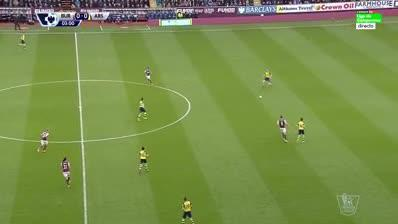futbol: (258, 95, 265, 100)
player: (59, 155, 75, 189), (135, 144, 152, 176), (275, 114, 291, 146), (293, 115, 309, 146), (34, 127, 51, 156), (180, 195, 196, 223), (135, 96, 149, 124), (16, 31, 29, 52), (142, 65, 154, 86), (262, 67, 274, 87)
